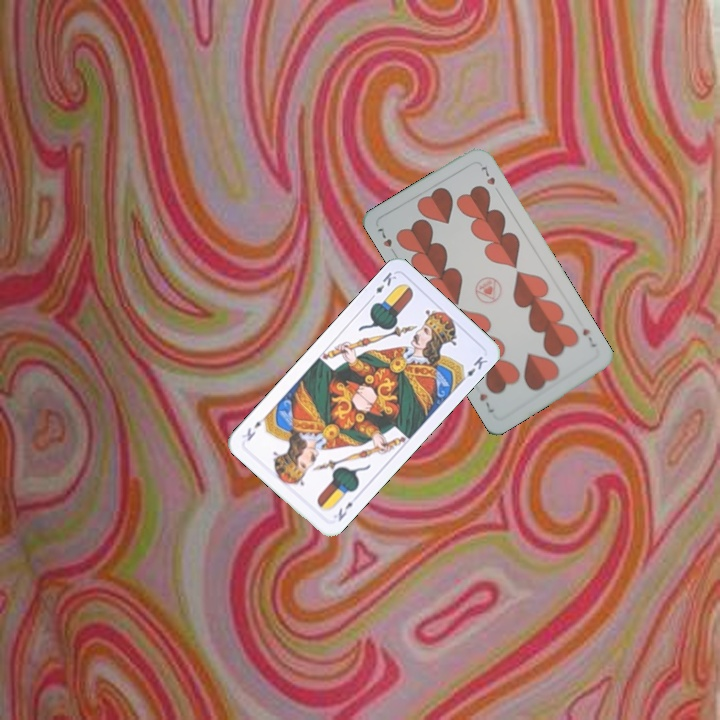EK: (366, 268, 399, 303), (334, 498, 356, 524)
H7: (373, 222, 400, 259), (578, 325, 599, 350)
